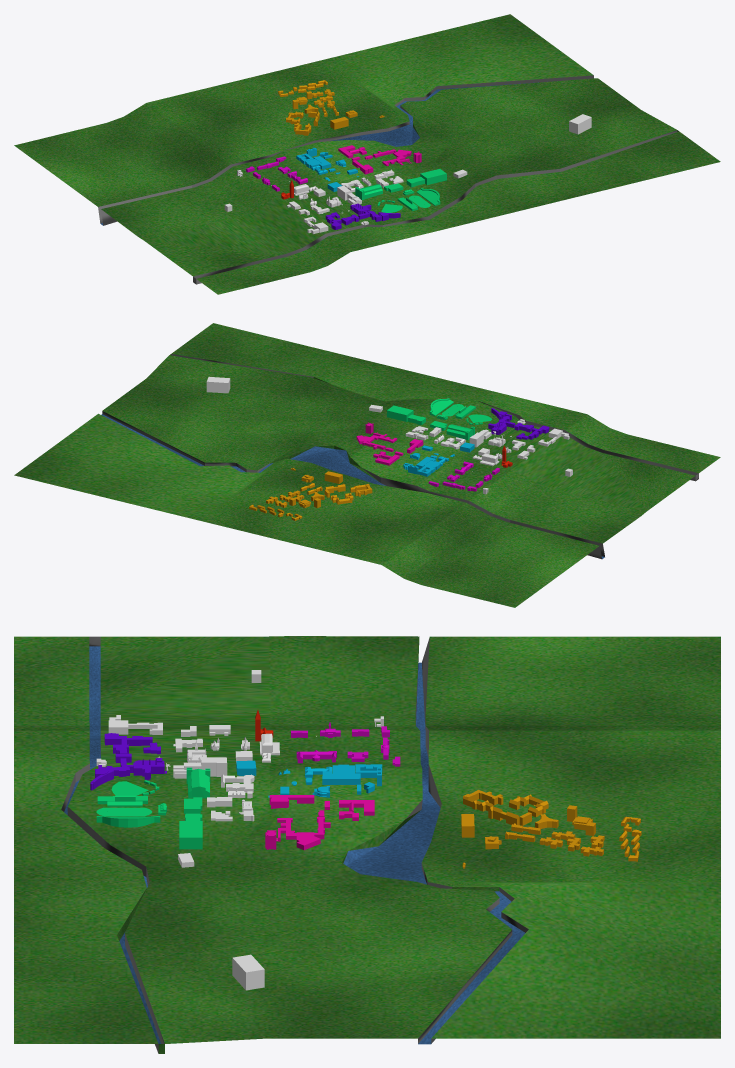
Rendered from campus.dae.
3 views of the same model, one above another, from view 1: azimuth 30°, elevation 25°; view 2: azimuth 150°, elevation 25°; view 3: azimuth 270°, elevation 25° (orthographic). The views are drawn at different scales.
Visible parts, largest first — view 1: ground, Shoellkopf_Feild; view 2: ground, Shoellkopf_Feild; view 3: ground, Shoellkopf_Feild, Cube, The_Low_Rises, Lynah_Rink_and_Bartels_Hall, Statler_Hall_and_Hotel, Barton_Hall, Physical_Sciences_Building___Clarke_Hall.
Boxes of the visible parts, x1,y1,x2,y2 form: ground: [14, 14, 720, 294]; Shoellkopf_Feild: [397, 188, 440, 210]; ground: [14, 323, 720, 607]; Shoellkopf_Feild: [429, 398, 475, 419]; ground: [14, 636, 720, 1053]; Shoellkopf_Feild: [96, 795, 166, 827]; Cube: [232, 954, 264, 990]; The_Low_Rises: [539, 831, 604, 856]; Lynah_Rink_and_Bartels_Hall: [179, 813, 202, 849]; Statler_Hall_and_Hotel: [173, 757, 227, 778]; Barton_Hall: [186, 767, 210, 798]; Physical_Sciences_Building___Clarke_Hall: [322, 764, 360, 784].
Size of the model in its own units: 69.82 by 48.99 by 5.76.
